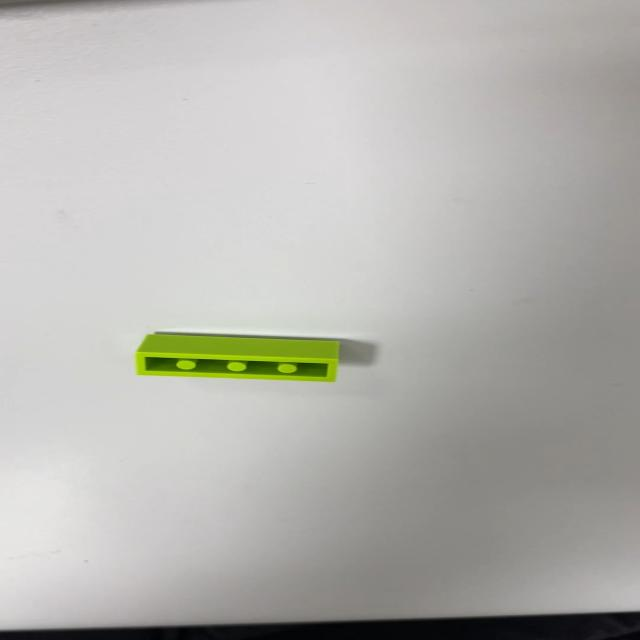C4x1x1: (133, 331, 341, 383)
